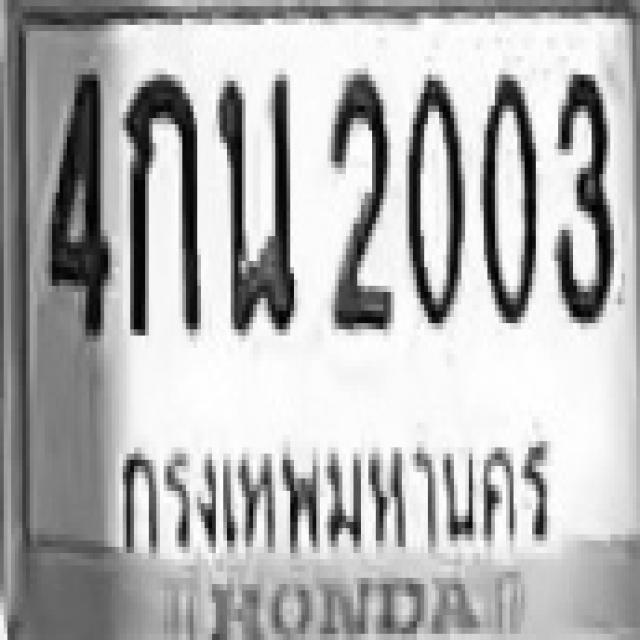0: (406, 68, 465, 323), (480, 68, 536, 323)
10GorGai: (123, 68, 197, 336)
2: (327, 71, 391, 326)
3: (551, 68, 610, 317)
34NorNu: (214, 68, 296, 330)
4: (45, 65, 108, 332)
Bangkok: (88, 397, 572, 563)
